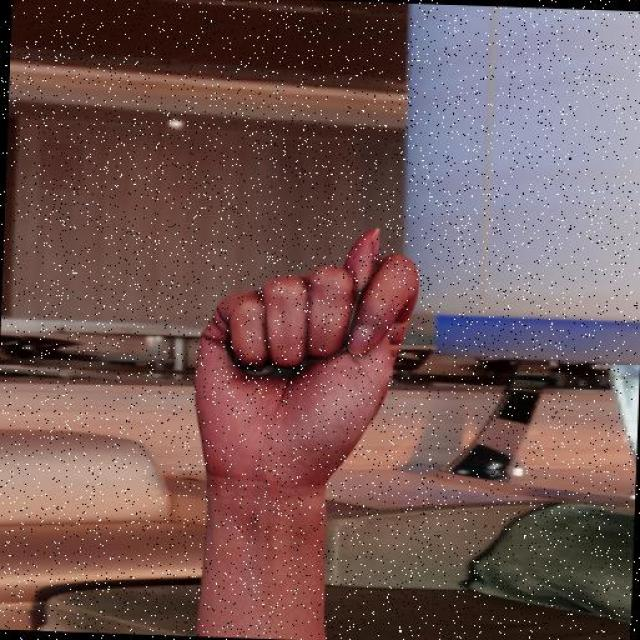T: (186, 216, 424, 494)
